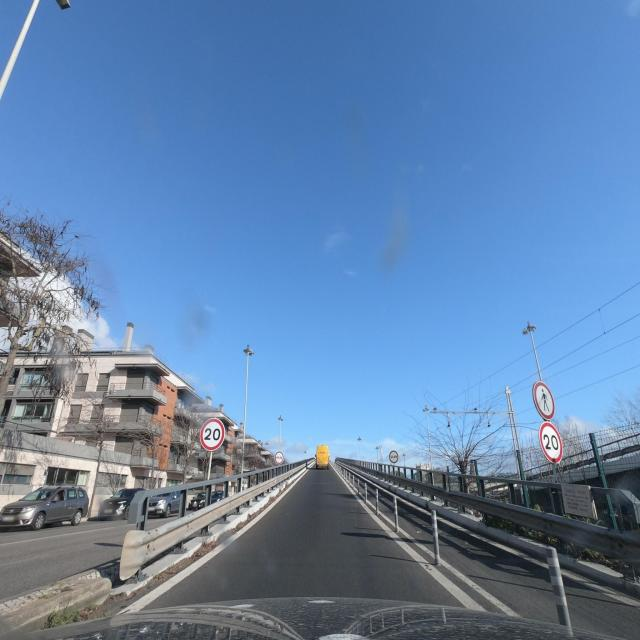car: (0, 483, 90, 531), (98, 487, 148, 521), (146, 490, 187, 518), (187, 493, 207, 510)
